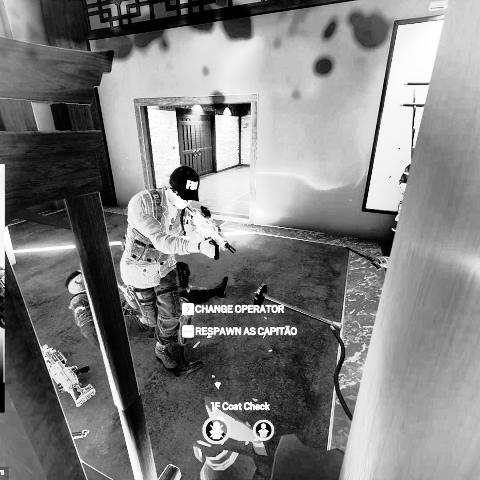Character: (118, 164, 238, 374), (64, 260, 230, 374)
Head: (168, 165, 202, 208), (65, 270, 85, 293)
